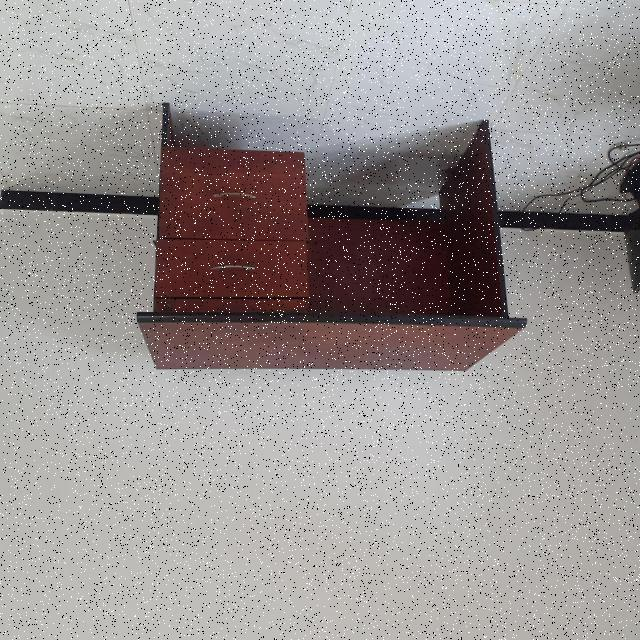mobile-phone: (128, 97, 524, 378)
